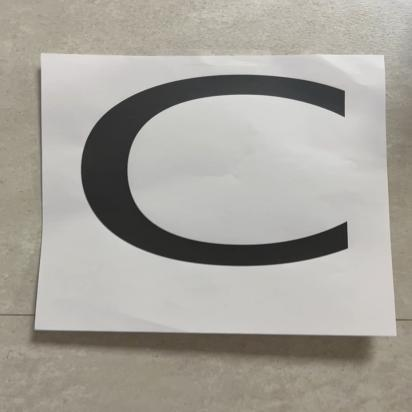seat: (59, 53, 381, 324)
